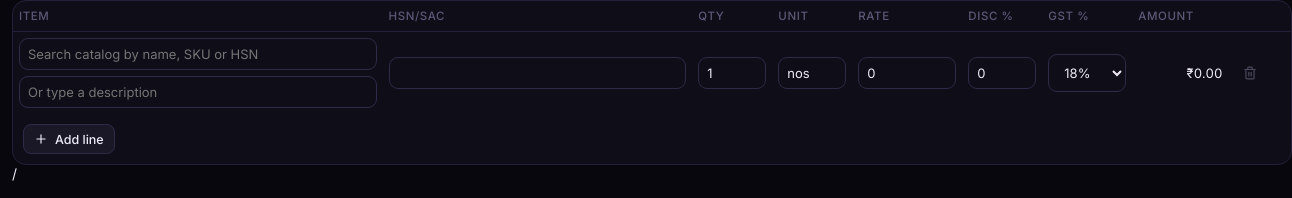
LineItemsEditor — reusable items › unlinking a catalog line makes price and GST editable again
Click the dropdown labelled "Search catalog".
click(198, 54)  # box x1=19 y1=38 x2=376 y2=70
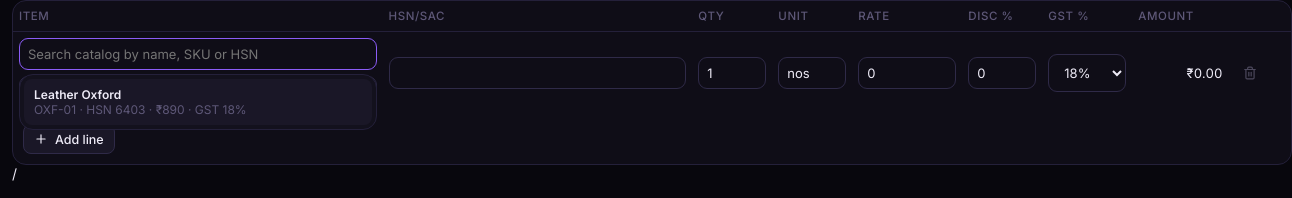
Click the option "Leather Oxford OXF-01 · HSN 6403 · ₹890 · GST 18%".
click(198, 102)  # box x1=24 y1=79 x2=372 y2=125
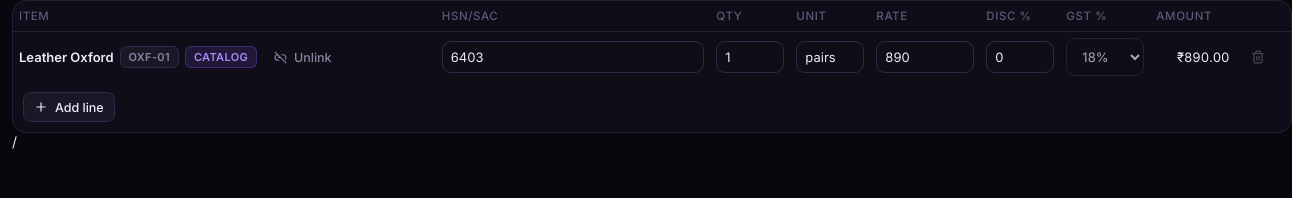
Click the button "Unlink".
click(303, 57)  # box x1=263 y1=42 x2=343 y2=72
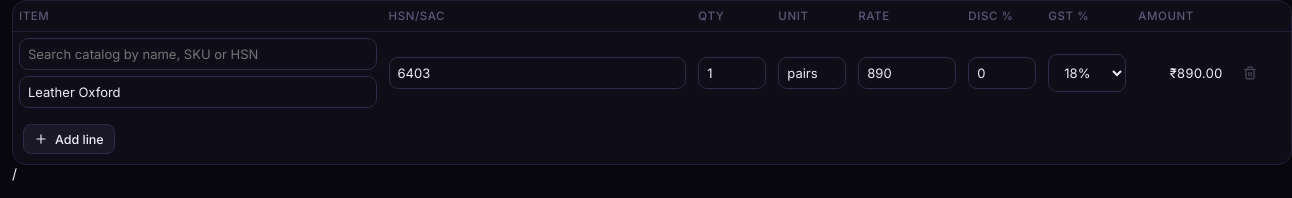
Expected: the number field named "Line 1 rate" is enabled, x1=858 y1=57 x2=956 y2=89
Expected: the dropdown named "Line 1 GST rate" is enabled, x1=1048 y1=54 x2=1126 y2=92
